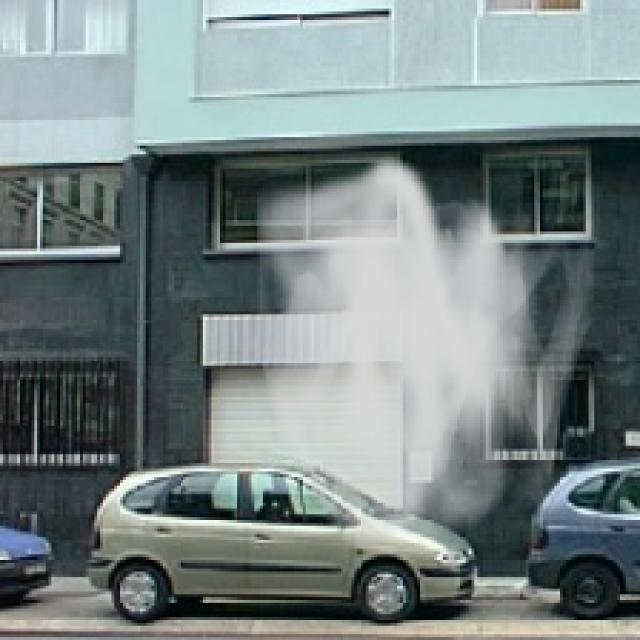smoke: (246, 154, 600, 563)
